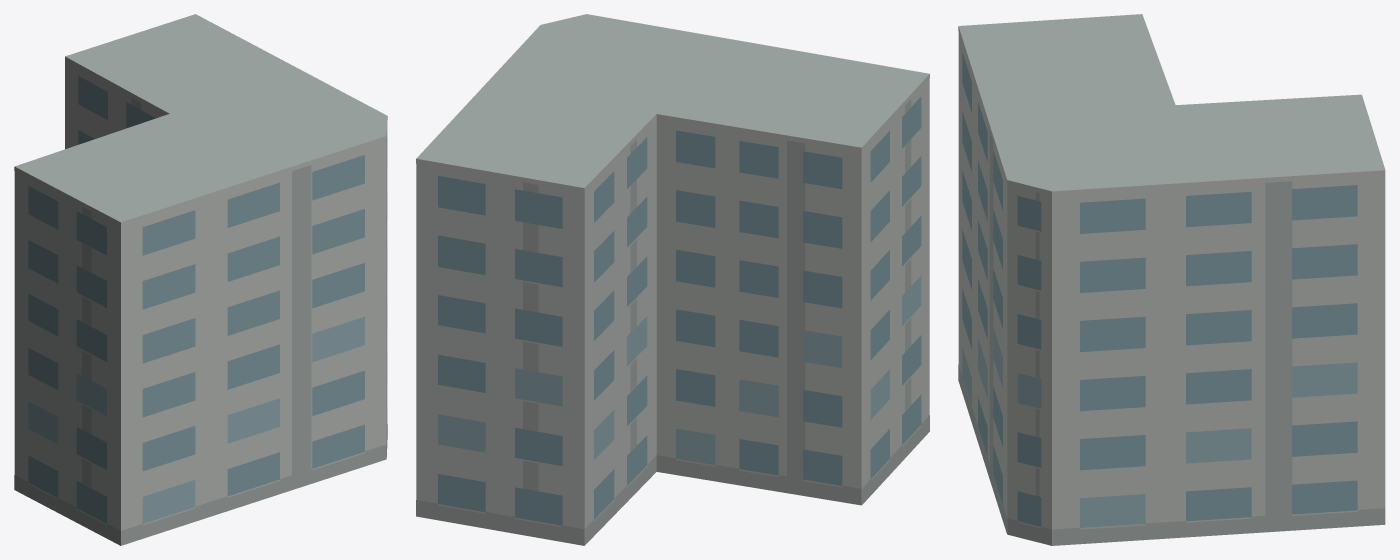
The model's file is survey-upis-32576677.glb.
3 views of the same model, side by side, from view 1: azimuth 30°, elevation 25°; view 2: azimuth 150°, elevation 25°; view 3: azimuth 270°, elevation 25° (orthographic). The views are drawn at different scales.
Visible parts, largest first — view 1: survey-upis-32576677.tmp; view 2: survey-upis-32576677.tmp; view 3: survey-upis-32576677.tmp.
Boxes of the visible parts, box(x1,y1,x2,y2) form: survey-upis-32576677.tmp: box(14, 14, 387, 545); survey-upis-32576677.tmp: box(416, 14, 929, 545); survey-upis-32576677.tmp: box(958, 14, 1385, 545).
Bounding box in the file's own units: 18.68 × 17.4 × 19.
